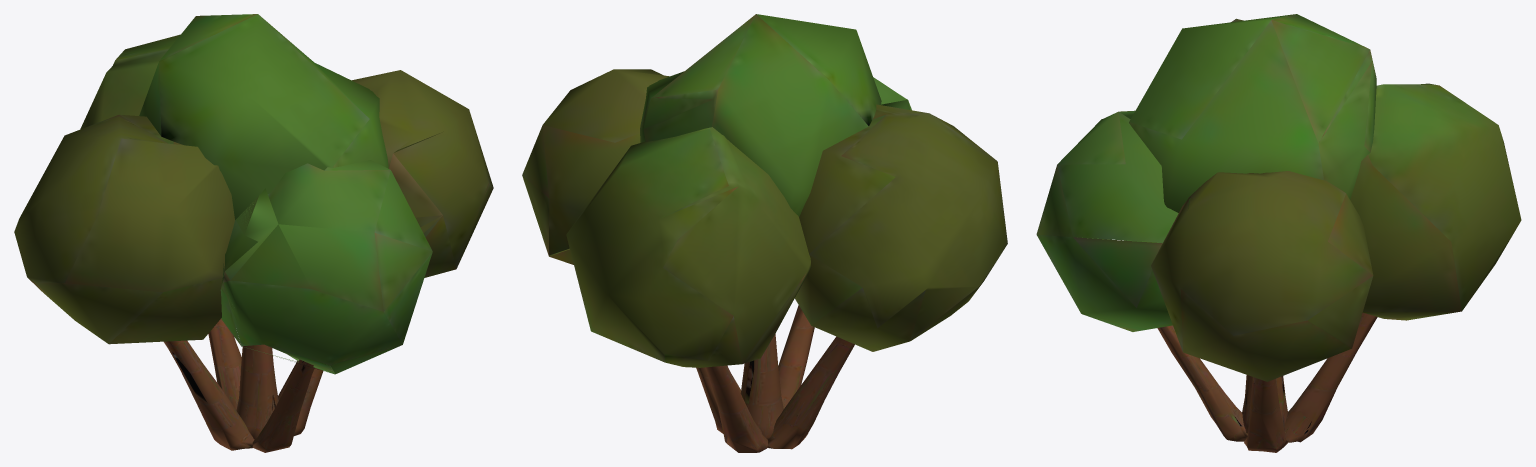
File: bush.glb
3 views of the same model, side by side, from view 1: azimuth 30°, elevation 25°; view 2: azimuth 150°, elevation 25°; view 3: azimuth 270°, elevation 25° (orthographic).
Parts seen in each view (by area): view 1: geometry_0; view 2: geometry_0; view 3: geometry_0.
Boxes of the visible parts, x1,y1,x2,y2 form: geometry_0: [14, 14, 493, 452]; geometry_0: [522, 14, 1007, 452]; geometry_0: [1036, 14, 1521, 452].
Bounding box in the file's own units: 0.9551 × 0.8692 × 0.9145.
Materials: 1 (1 with a texture image).
